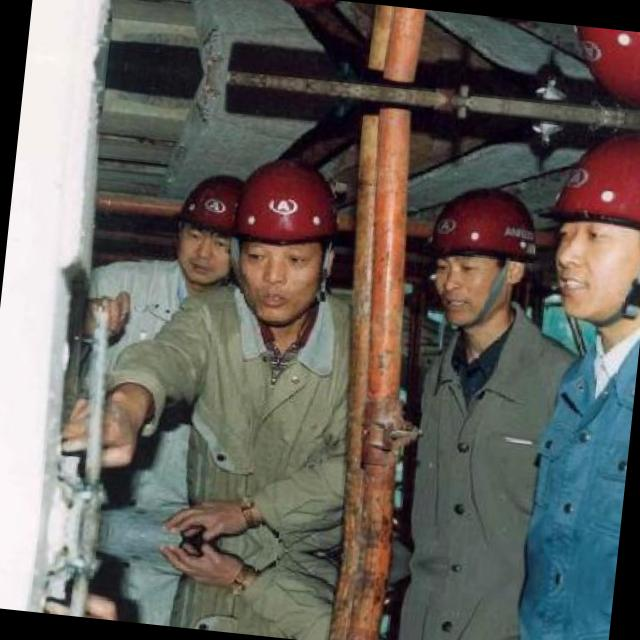helmet: (224, 151, 348, 327), (536, 118, 640, 323), (420, 176, 546, 340), (164, 163, 257, 290), (557, 24, 640, 113)
